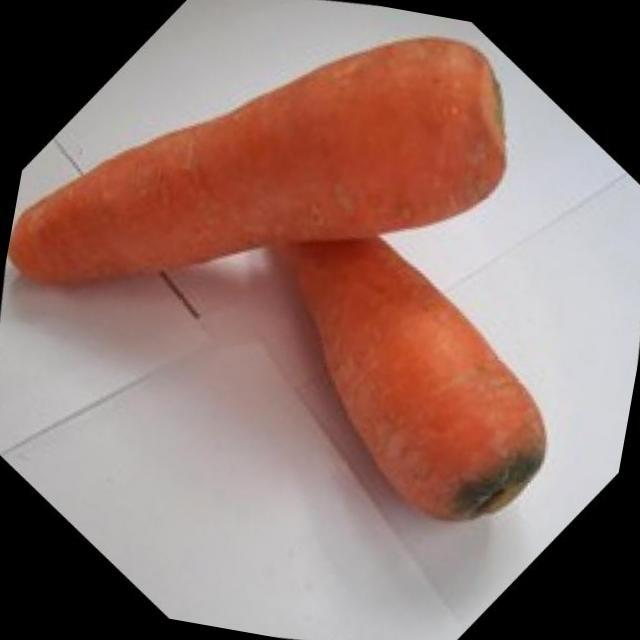carrot: (0, 0, 640, 619), (87, 54, 640, 640)
